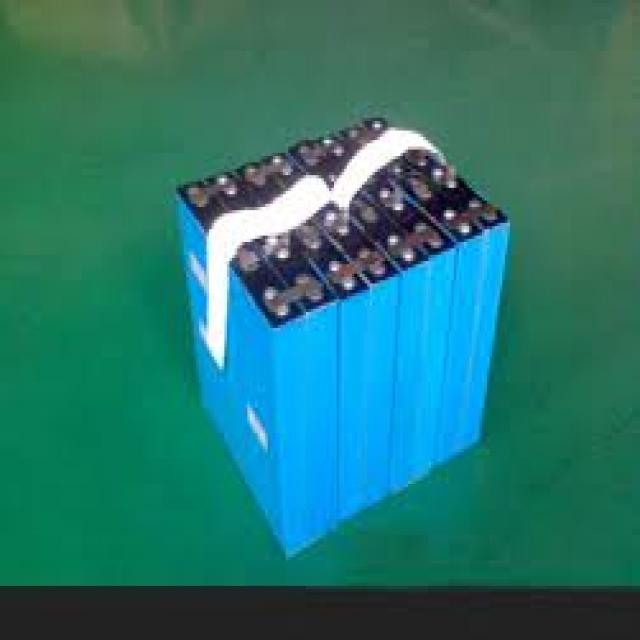non-organic waste: (173, 111, 513, 560)
